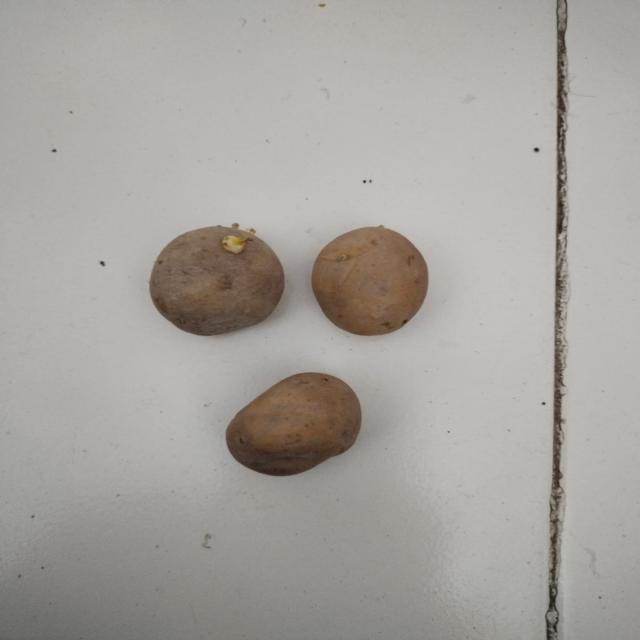poteto: (212, 365, 401, 479), (150, 213, 299, 337), (310, 217, 444, 346)
